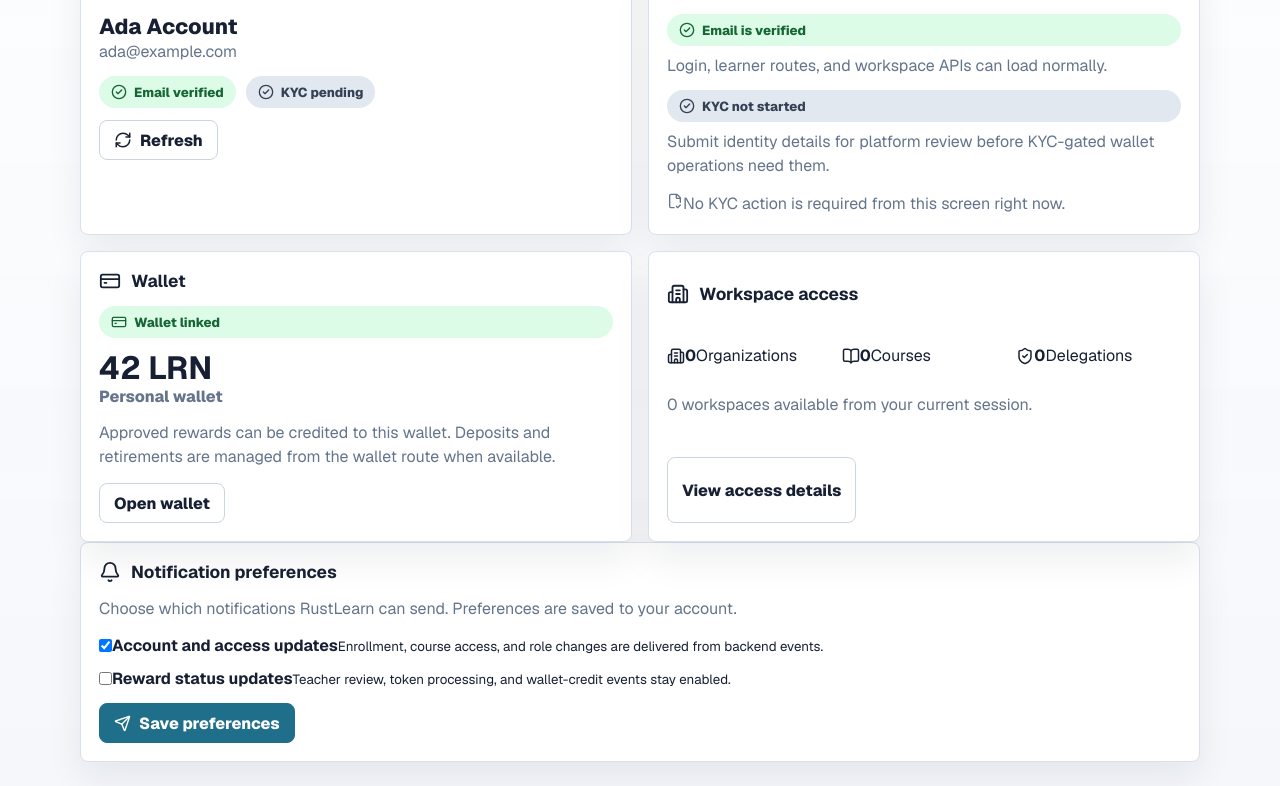
Test: AccountSettingsRoute › saves notification preferences through the feature API boundary
The image size is (1280, 786).
(page scrolled)
Expected: the heading "Notification preferences" is shown, [131, 561, 337, 583]
Step 1. Click the checkbox labelled "Reward status updates" → (106, 679), box [99, 672, 112, 685]
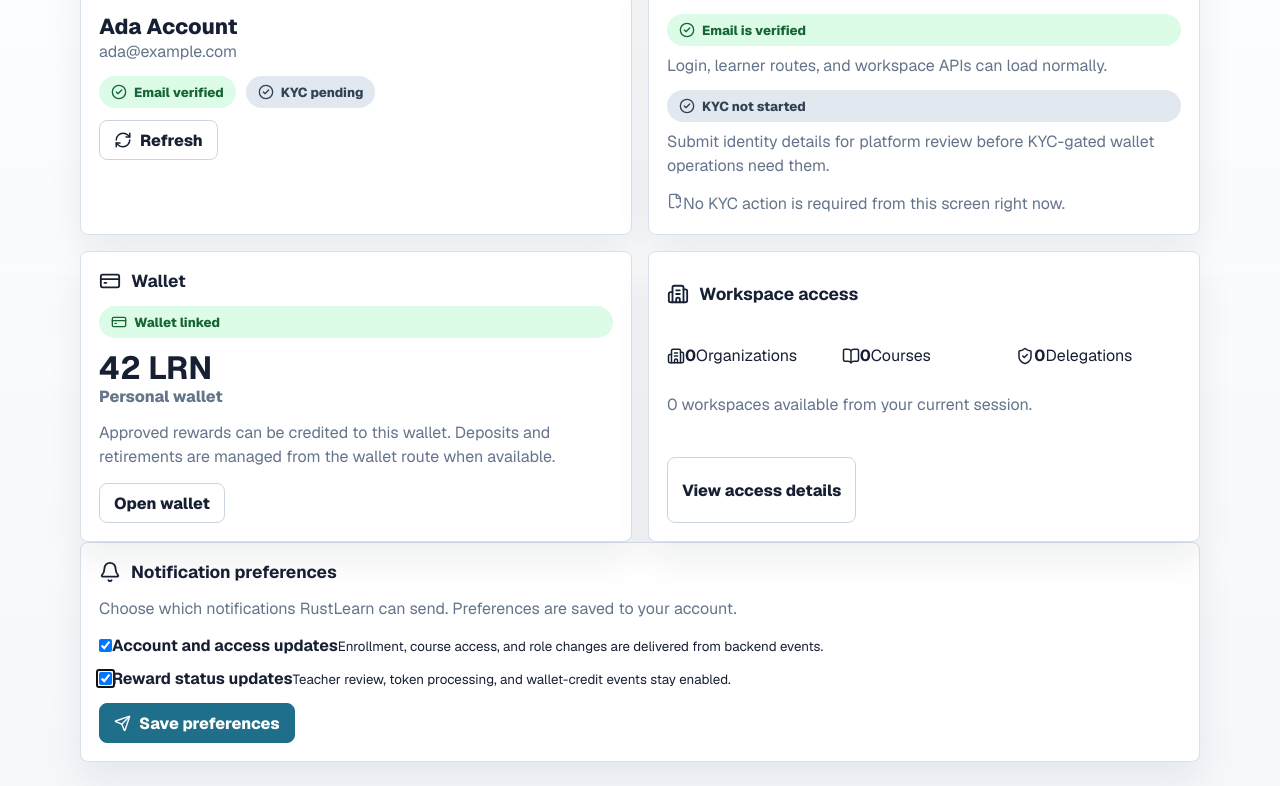
Step 2. Click the button "Save preferences" → (197, 723), box [99, 703, 295, 743]
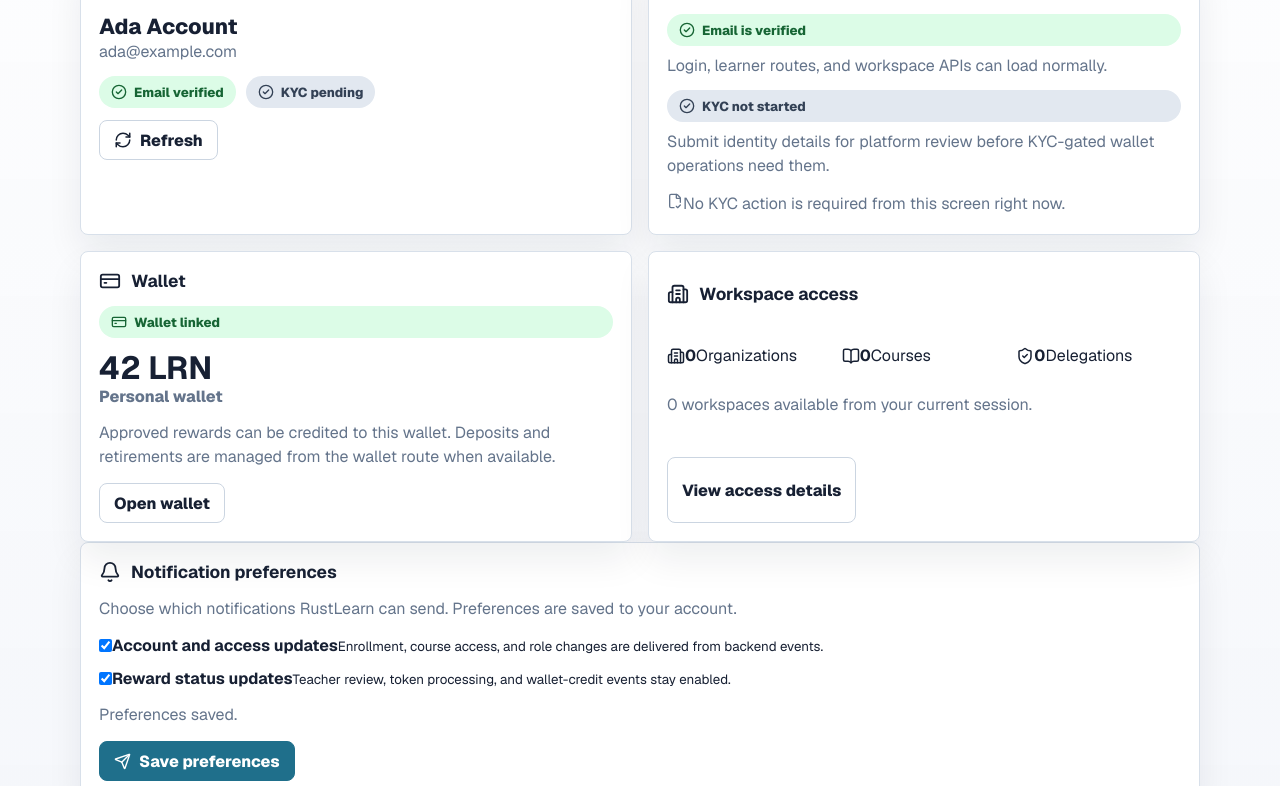
Expected: the text "Preferences saved." is shown, [99, 704, 237, 725]
